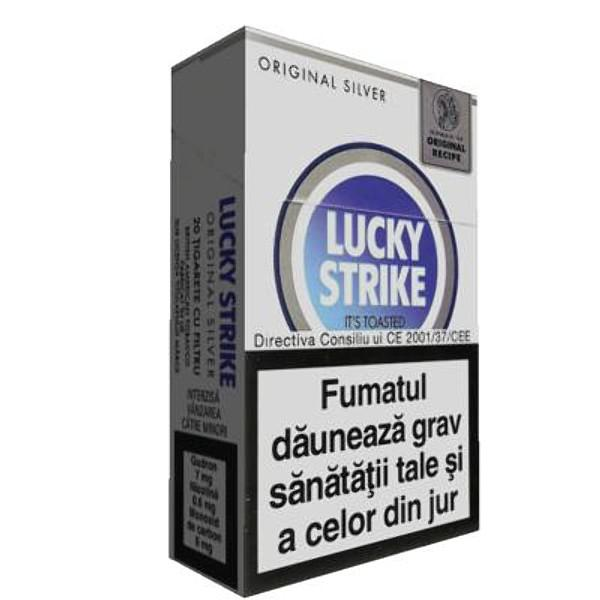lucky_strike_blue: (243, 91, 475, 534)
